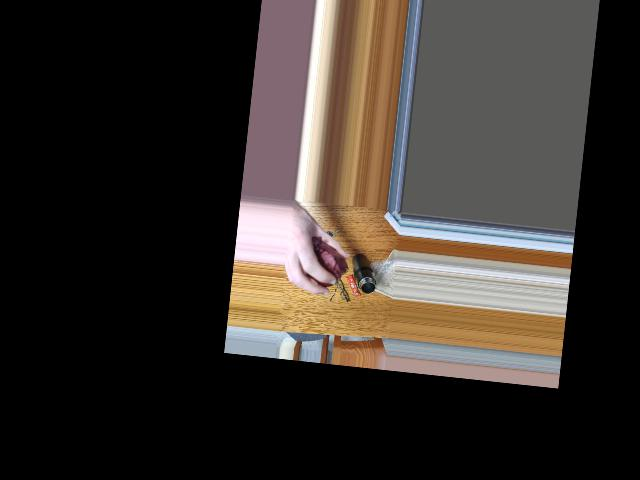onion: (305, 232, 347, 288)
